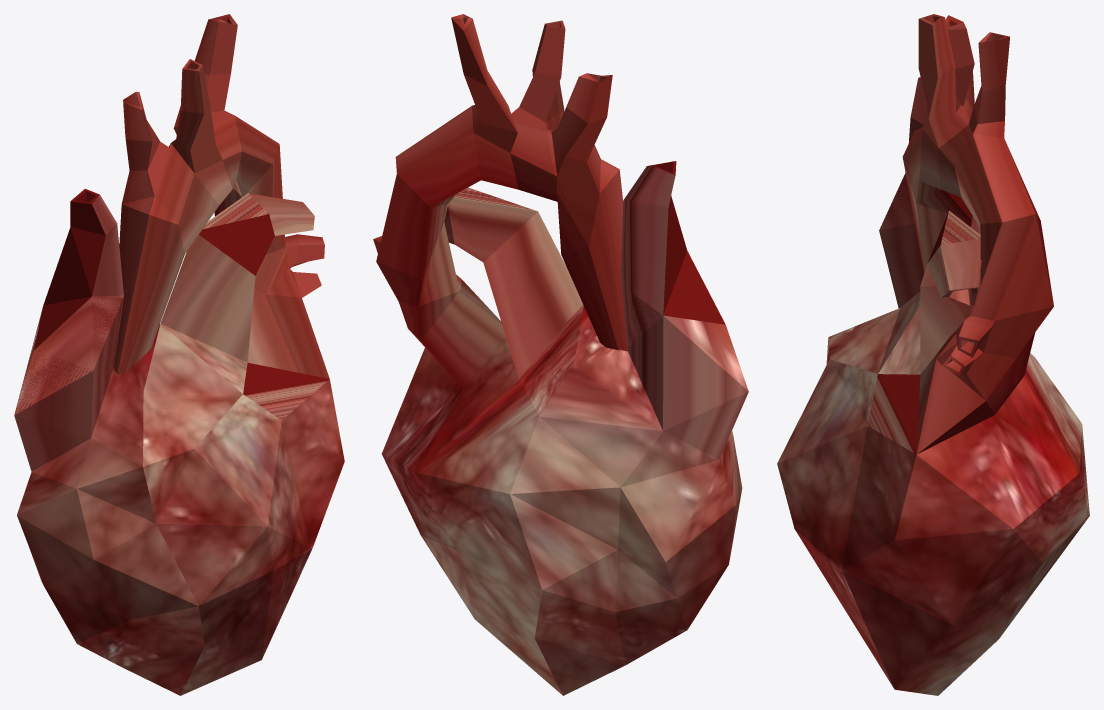
Rendered from plant.glb.
3 views of the same model, side by side, from view 1: azimuth 30°, elevation 25°; view 2: azimuth 150°, elevation 25°; view 3: azimuth 270°, elevation 25° (orthographic). The views are drawn at different scales.
Visible parts, largest first — view 1: Icosphere; view 2: Icosphere; view 3: Icosphere.
Boxes of the visible parts, x1=… form: Icosphere: x1=14, y1=14, x2=344, y2=695; Icosphere: x1=373, y1=14, x2=748, y2=695; Icosphere: x1=777, y1=14, x2=1089, y2=695.
Size of the model in its own units: 2.54 by 4.72 by 1.92.
1 material, 1 textured.
